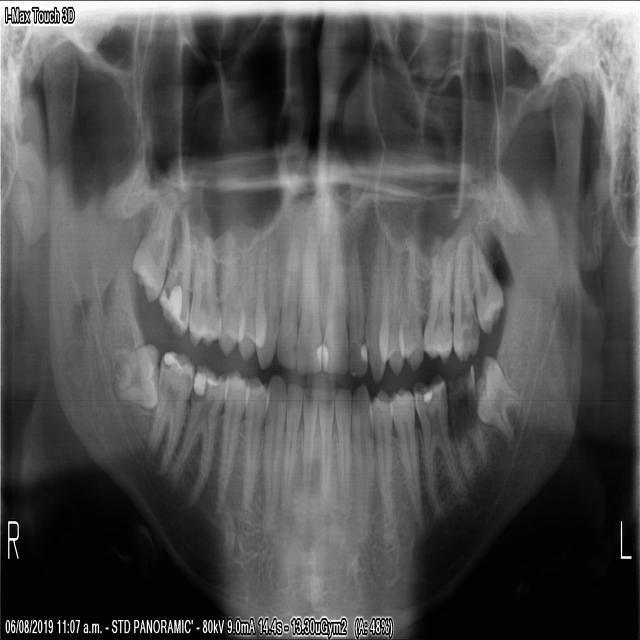LCD: (349, 381, 373, 539)
LCU: (361, 224, 389, 382)
LID: (332, 385, 350, 505), (317, 383, 333, 495)
LIU: (319, 229, 348, 375), (346, 239, 367, 377)
LMD: (411, 368, 463, 524), (444, 360, 487, 494), (470, 350, 520, 442)
LMU: (420, 232, 452, 365), (470, 227, 505, 335), (450, 234, 479, 361)
LPMD: (385, 383, 421, 530), (365, 385, 392, 535)
LPMU: (375, 233, 404, 378), (395, 235, 423, 373)
RCD: (261, 371, 285, 531)
RCU: (253, 217, 279, 370)
RID: (281, 380, 302, 509), (301, 382, 317, 499)
RIU: (294, 227, 321, 375), (274, 234, 299, 374)
RMD: (164, 363, 227, 505), (143, 347, 195, 473), (109, 339, 158, 412)
RMU: (128, 197, 178, 304), (155, 212, 194, 338), (187, 227, 221, 348)
RPMD: (212, 365, 249, 518), (240, 373, 268, 513)
RPMU: (214, 226, 246, 359), (235, 234, 267, 363)
